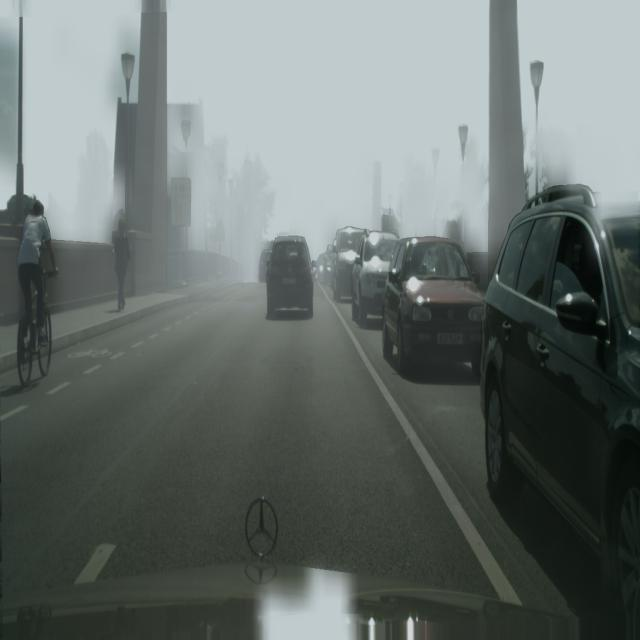bus: (112, 217, 131, 311)
person: (478, 185, 640, 628), (381, 235, 484, 378), (351, 230, 398, 328), (266, 234, 314, 320), (332, 226, 367, 302), (258, 241, 274, 282)
truck: (17, 182, 54, 389)
